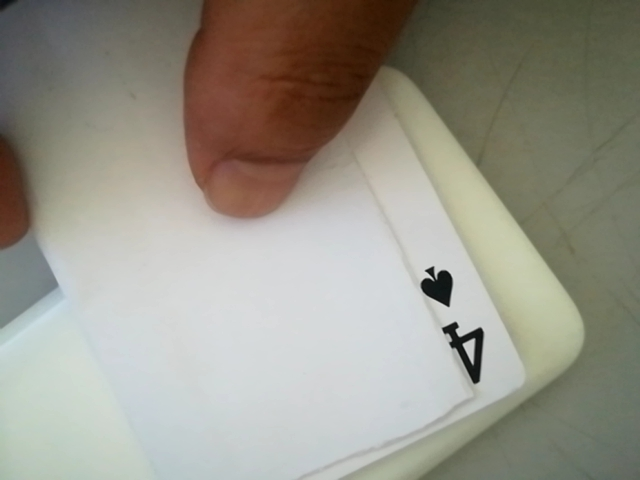ht 4: (408, 253, 513, 400)
